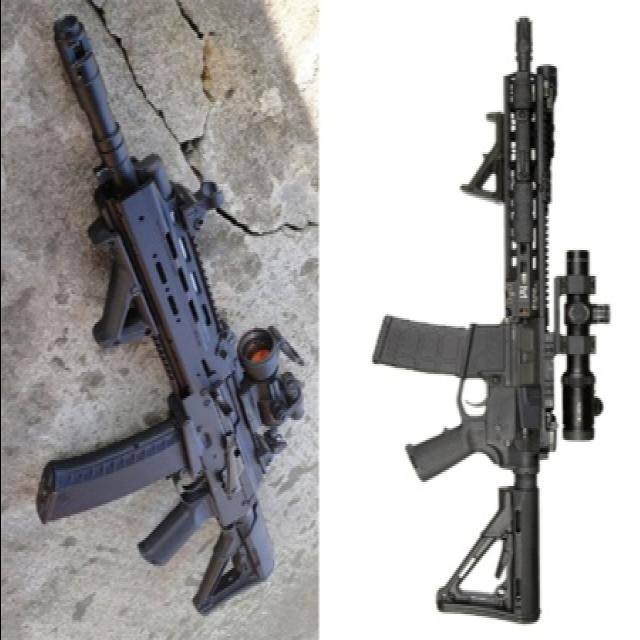rifle: (41, 15, 319, 619), (362, 21, 624, 637)
